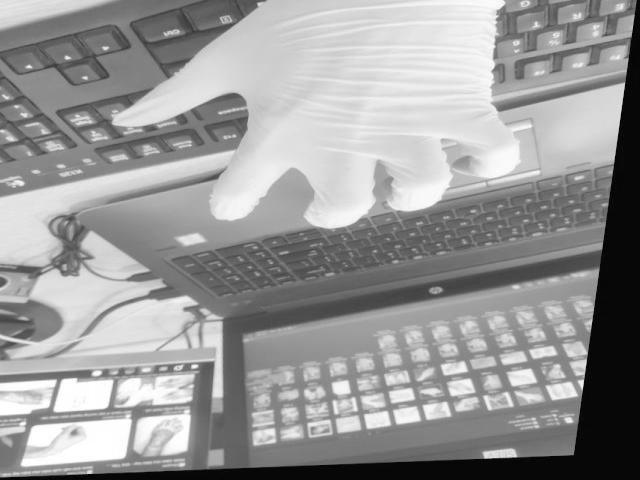gloved: (108, 0, 522, 229)
